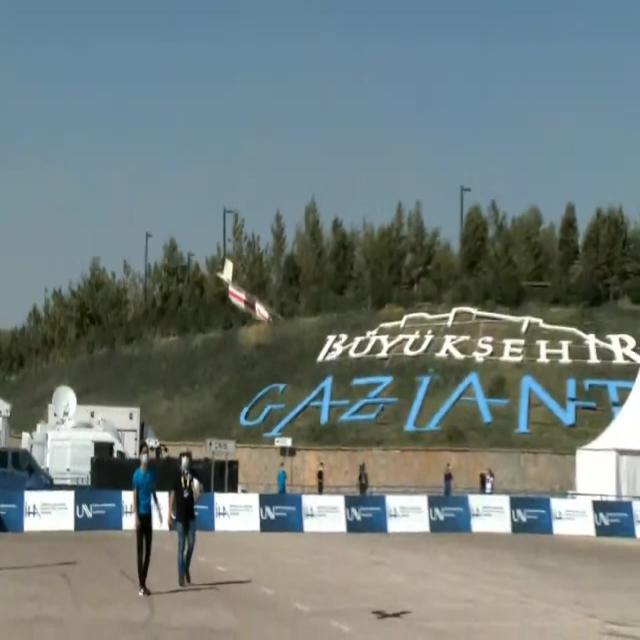iha: (216, 289, 273, 293)
